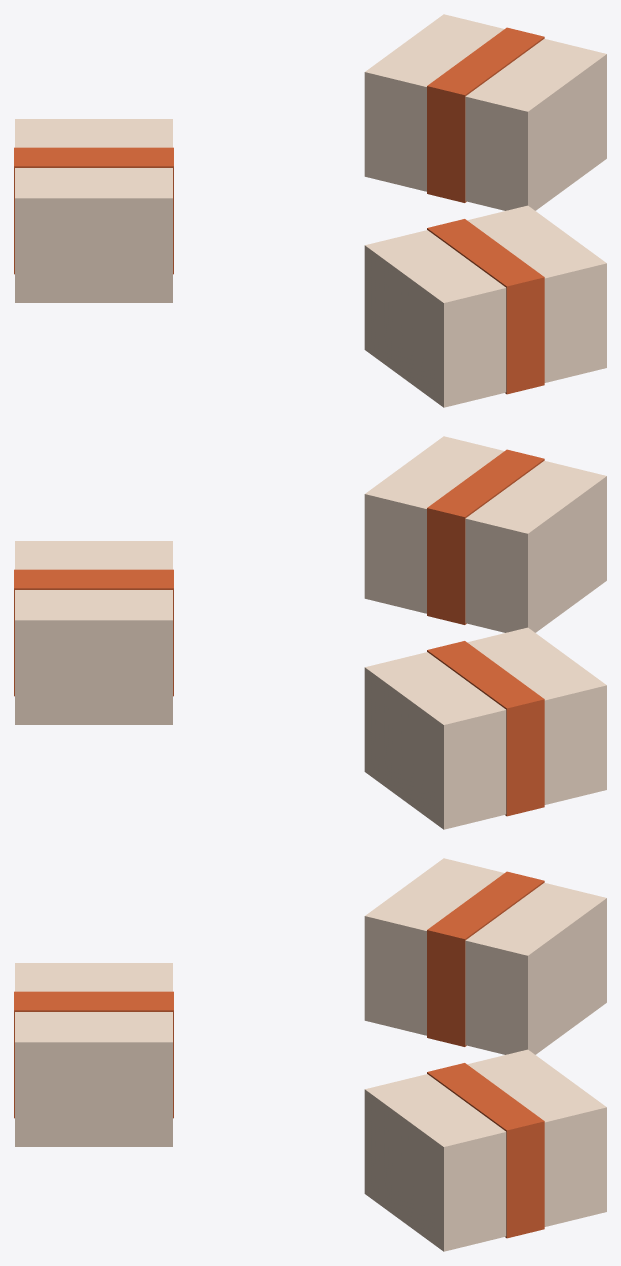
Rendered from apollo_cm.parachutes.glb.
The picture shows the model from 3 angles, top to bottom: view 1: azimuth 30°, elevation 25°; view 2: azimuth 150°, elevation 25°; view 3: azimuth 270°, elevation 25°; orthographic projection.
Parts seen in each view (by area): view 1: apollo_cm.parachutes.main_01.mesh, apollo_cm.parachutes.main_02.mesh, apollo_cm.parachutes.main_03.mesh; view 2: apollo_cm.parachutes.main_03.mesh, apollo_cm.parachutes.main_01.mesh, apollo_cm.parachutes.main_02.mesh; view 3: apollo_cm.parachutes.main_02.mesh, apollo_cm.parachutes.main_03.mesh, apollo_cm.parachutes.main_01.mesh.
Boxes of the visible parts, <box> form: apollo_cm.parachutes.main_01.mesh: <box>364,205,606,407</box>; apollo_cm.parachutes.main_02.mesh: <box>364,14,606,210</box>; apollo_cm.parachutes.main_03.mesh: <box>14,119,173,302</box>; apollo_cm.parachutes.main_03.mesh: <box>364,627,606,829</box>; apollo_cm.parachutes.main_01.mesh: <box>364,436,606,632</box>; apollo_cm.parachutes.main_02.mesh: <box>14,541,173,724</box>; apollo_cm.parachutes.main_02.mesh: <box>364,1049,606,1251</box>; apollo_cm.parachutes.main_03.mesh: <box>364,858,606,1054</box>; apollo_cm.parachutes.main_01.mesh: <box>14,963,173,1146</box>.
Bounding box in the file's own units: 1.12 × 0.196 × 0.9757.
